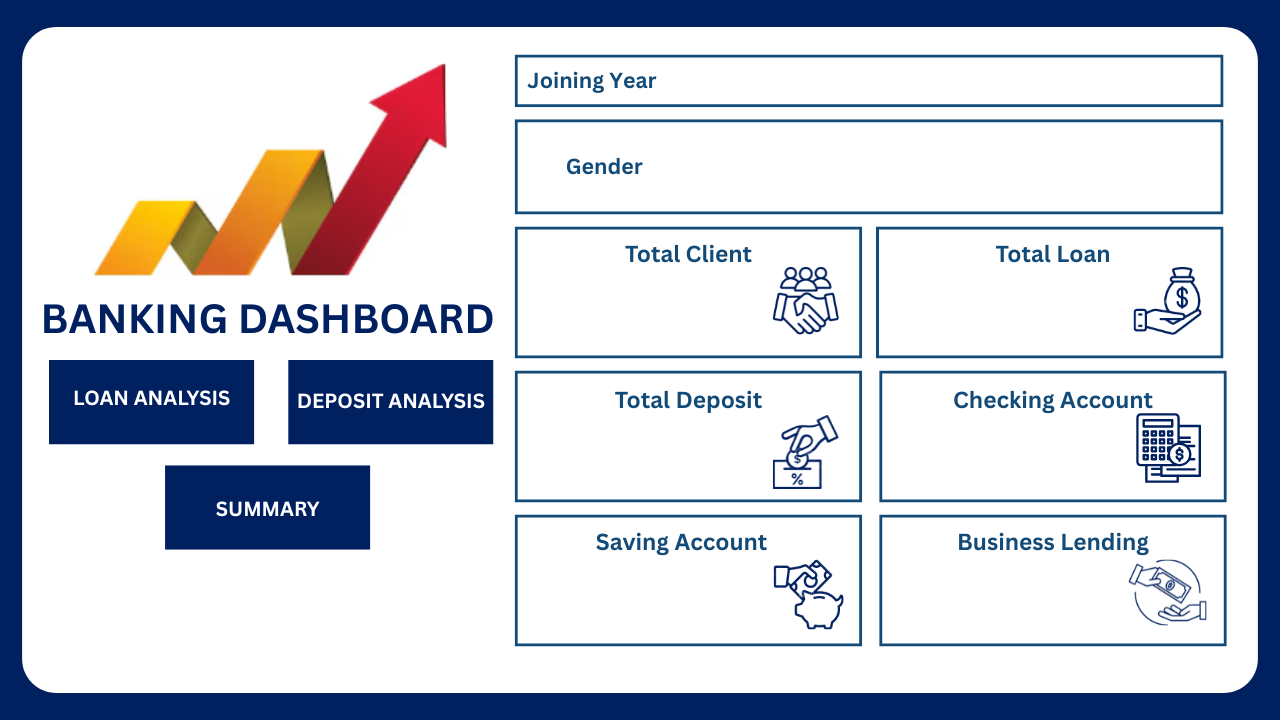

The dashboard page shown, as its layout file describes it:
{"tool":"powerbi","page":{"name":"Home Dashboard ","canvas":[1280,720],"ordinal":0},"visuals":[{"type":"card","fields":{"Values":["banking_case customer.Name"]},"box":[520,259.4,271.4,84.5],"z":0},{"type":"slicer","fields":{"Values":["Query1.GenderId"]},"box":[655.9,126.2,564,81],"z":1000},{"type":"card","fields":{"Values":["banking_case customer.Total Loan"]},"box":[891.6,259.4,271.4,84.5],"z":2000},{"type":"card","fields":{"Values":["banking_case customer.Total Deposite"]},"box":[520,407.8,271.4,83.2],"z":3000},{"type":"slicer","fields":{"Values":["banking_case customer.Year Of Joining"]},"box":[656.7,60,563.3,45],"z":4000},{"type":"card","fields":{"Values":["banking_case customer.Business Lending"]},"box":[891.6,546.5,271.4,83.2],"z":5000},{"type":"card","fields":{"Values":["banking_case customer.Saving Accounts"]},"box":[520,546.5,271.4,83.2],"z":6000},{"type":"card","fields":{"Values":["banking_case customer.Checking Accounts"]},"box":[891.6,407.8,271.4,83.2],"z":7000},{"type":"actionButton","box":[48.3,359.5,206.3,82],"z":8000},{"type":"actionButton","box":[288.3,359.5,206.3,82],"z":9000},{"type":"actionButton","box":[164.1,465.7,207.5,80.8],"z":10000}]}

Visuals, with their boxes in screenshot pixels (x1, y1, x2, y2), scaled from the page's 1280x720 canvas onto the 1280x720 screenshot:
card - banking_case customer.Name: Rect(520, 259, 791, 344)
slicer - Query1.GenderId: Rect(656, 126, 1220, 207)
card - banking_case customer.Total Loan: Rect(892, 259, 1163, 344)
card - banking_case customer.Total Deposite: Rect(520, 408, 791, 491)
slicer - banking_case customer.Year Of Joining: Rect(657, 60, 1220, 105)
card - banking_case customer.Business Lending: Rect(892, 546, 1163, 630)
card - banking_case customer.Saving Accounts: Rect(520, 546, 791, 630)
card - banking_case customer.Checking Accounts: Rect(892, 408, 1163, 491)
actionButton: Rect(48, 360, 255, 442)
actionButton: Rect(288, 360, 495, 442)
actionButton: Rect(164, 466, 372, 546)
